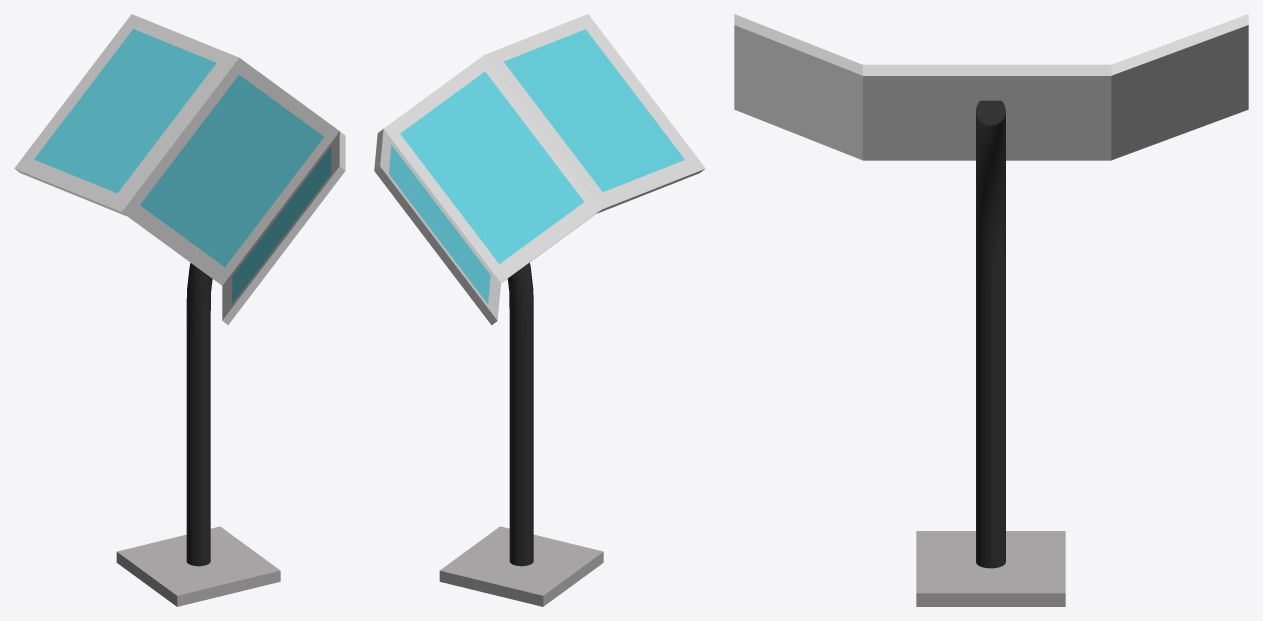
File: Mesh_Podium_m01_v01.fbx
The picture shows the model from 3 angles, left to right: view 1: azimuth 30°, elevation 25°; view 2: azimuth 150°, elevation 25°; view 3: azimuth 270°, elevation 25°; orthographic projection. The views are drawn at different scales.
Visible parts, largest first — view 1: pCube13, pCylinder15, pCube14; view 2: pCube13, pCylinder15, pCube14; view 3: pCube13, pCylinder15, pCube14.
Boxes of the visible parts, box(x1,y1,x2,y2) form: pCube13: box(14, 14, 345, 324); pCylinder15: box(186, 263, 212, 566); pCube14: box(116, 526, 280, 606); pCube13: box(374, 14, 705, 325); pCylinder15: box(507, 262, 533, 566); pCube14: box(439, 526, 603, 606); pCube13: box(734, 14, 1248, 160); pCylinder15: box(976, 100, 1005, 568); pCube14: box(916, 531, 1065, 606).
Size of the model in its own units: 0.4383 by 1.13 by 0.9.
